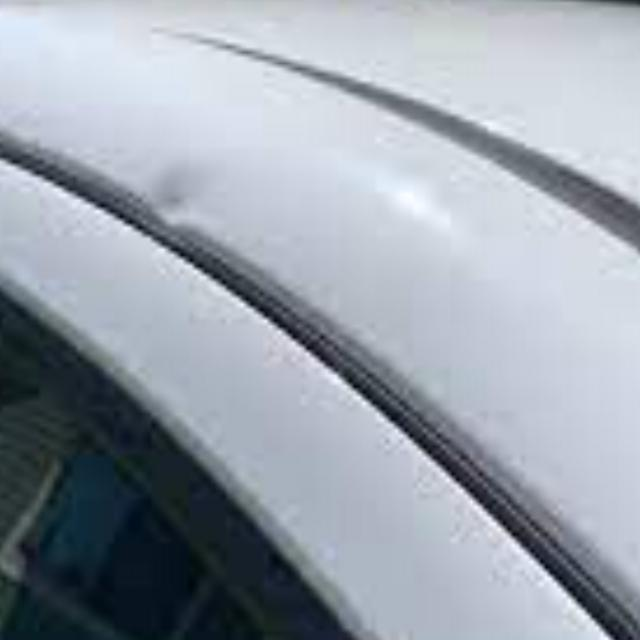dents: (131, 156, 249, 242)
